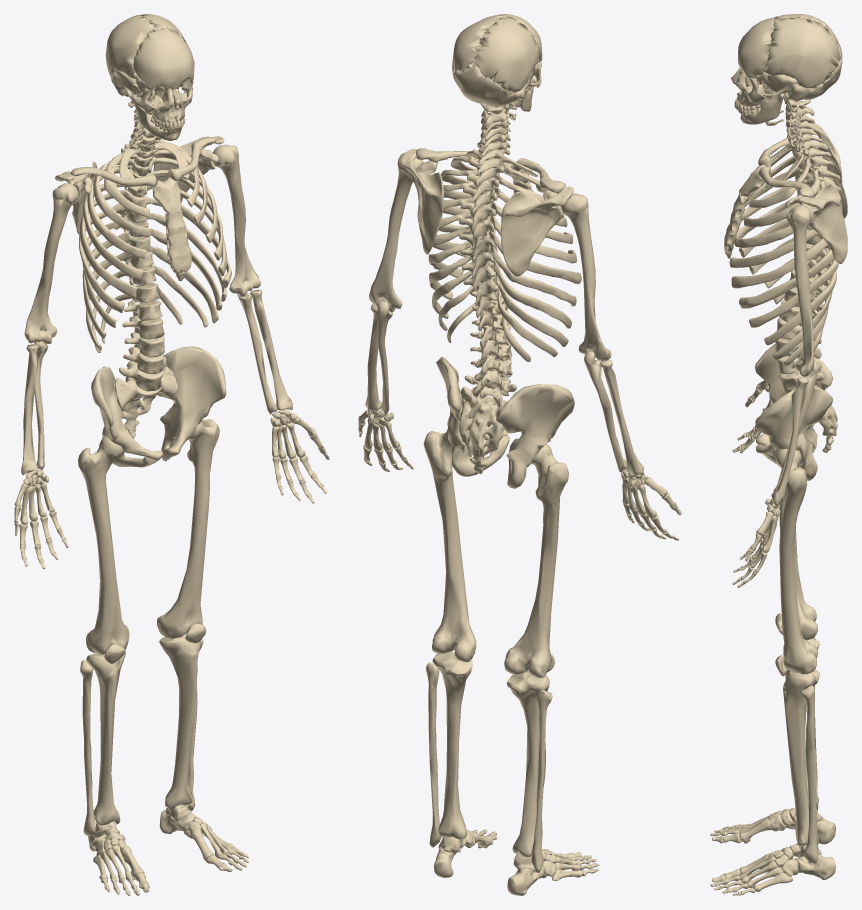
The model's file is male-skeleton.glb.
3 views of the same model, side by side, from view 1: azimuth 30°, elevation 25°; view 2: azimuth 150°, elevation 25°; view 3: azimuth 270°, elevation 25° (orthographic). The views are drawn at different scales.
Parts seen in each view (by area): view 1: FMA24474, FMA24475, FMA16587, FMA24478, FMA24477, FMA52734, FMA23130, FMA23131, FMA16586, FMA52788, FMA16202, FMA24480 (+19 smaller); view 2: FMA24474, FMA24475, FMA16586, FMA13395, FMA52788, FMA24478, FMA24477, FMA23130, FMA16202, FMA23131, FMA13396, FMA16587 (+15 smaller); view 3: FMA24475, FMA52789, FMA16587, FMA24478, FMA23131, FMA13396, FMA24481, FMA52734, FMA16586, FMA23465, FMA24474, FMA8256 (+27 smaller).
Part boxes in pixels (x1,y1,x2,y2): FMA24474: (78, 436, 129, 654); FMA24475: (157, 419, 219, 638); FMA16587: (160, 346, 226, 461); FMA24478: (159, 633, 201, 810); FMA24477: (86, 652, 125, 825); FMA52734: (133, 28, 194, 91); FMA23130: (24, 183, 78, 343); FMA23131: (213, 144, 260, 297); FMA16586: (91, 366, 162, 467); FMA52788: (105, 15, 157, 79); FMA16202: (115, 366, 178, 438); FMA24480: (80, 659, 95, 835); FMA24474: (504, 444, 568, 677); FMA24475: (423, 430, 476, 662); FMA16586: (495, 384, 574, 488); FMA13395: (501, 186, 573, 276); FMA52788: (474, 16, 539, 93); FMA24478: (432, 651, 472, 839); FMA24477: (507, 671, 549, 857); FMA23130: (561, 193, 611, 360); FMA16202: (459, 386, 507, 473); FMA23131: (369, 152, 423, 311); FMA13396: (400, 149, 443, 254); FMA16587: (436, 356, 509, 476); FMA24475: (775, 448, 818, 674); FMA52789: (763, 17, 840, 89); FMA16587: (755, 385, 833, 480); FMA24478: (783, 669, 819, 846); FMA23131: (786, 205, 814, 376); FMA13396: (785, 183, 847, 263); FMA24481: (800, 685, 818, 863); FMA52734: (738, 17, 774, 78); FMA16586: (755, 344, 832, 452); FMA23465: (771, 377, 808, 505); FMA24474: (779, 494, 817, 640); FMA8256: (739, 249, 834, 308).
Bounding box in the file's own units: 0.648 × 1.64 × 0.2422.
